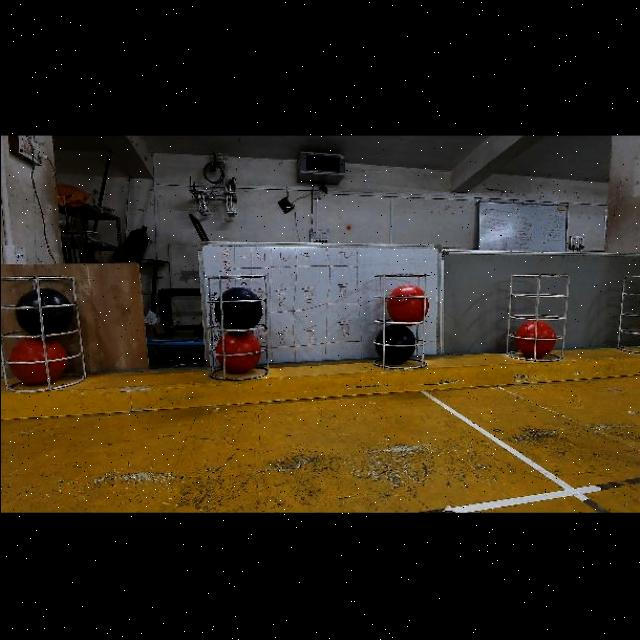P: (14, 288, 73, 334), (214, 285, 262, 329), (374, 323, 416, 365)
R: (8, 336, 68, 385), (219, 330, 260, 374), (386, 284, 428, 322), (514, 321, 556, 357)
S: (0, 268, 91, 392), (200, 276, 270, 386), (370, 262, 430, 371), (504, 277, 570, 359), (612, 268, 640, 358)
